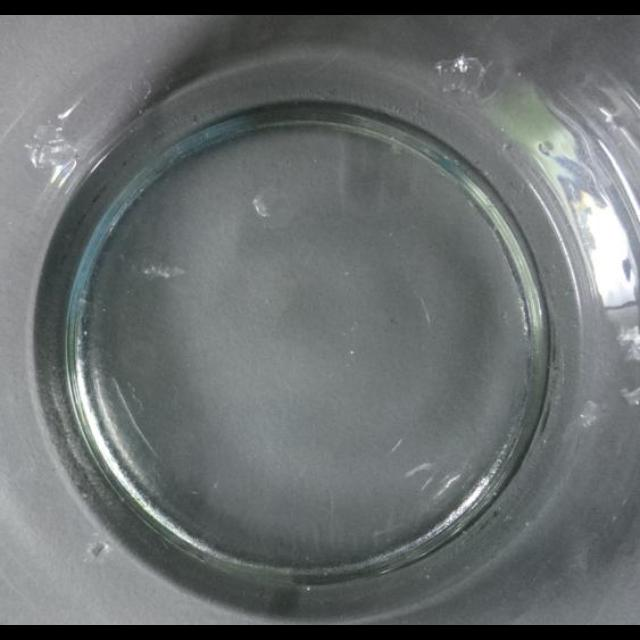Fibre: (28, 121, 80, 173), (434, 54, 488, 96), (140, 261, 188, 281), (252, 195, 272, 218)
microbeads: (578, 399, 602, 427), (620, 385, 640, 405)
